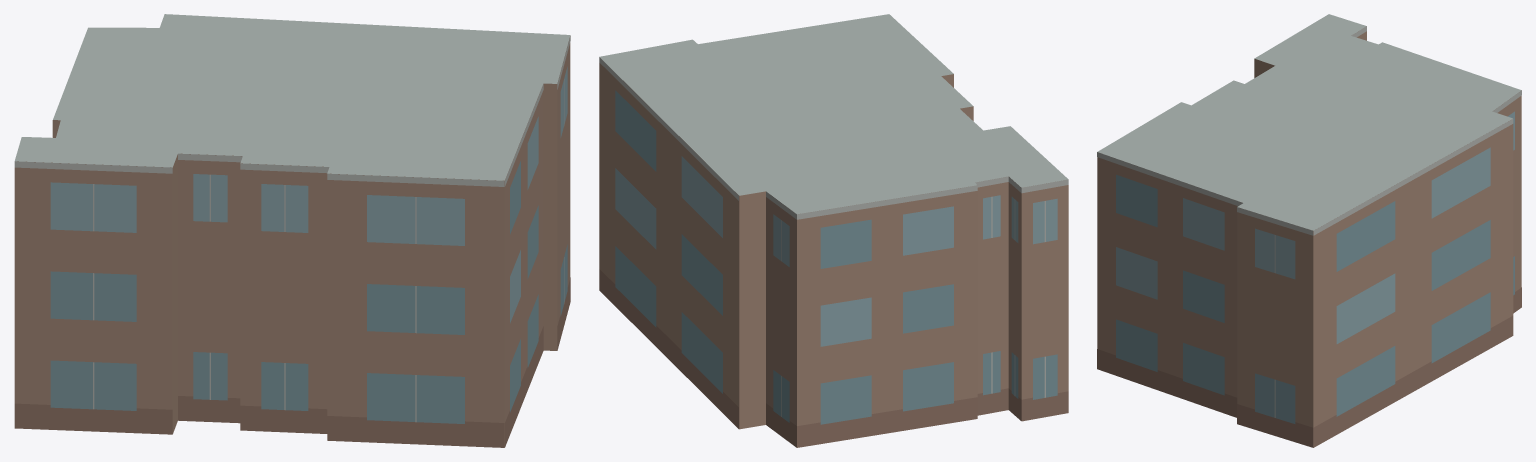
Rendered from survey-upis-32929651.glb.
The picture shows the model from 3 angles, left to right: view 1: azimuth 30°, elevation 25°; view 2: azimuth 150°, elevation 25°; view 3: azimuth 270°, elevation 25°; orthographic projection. The views are drawn at different scales.
Visible parts, largest first — view 1: survey-upis-32929651.tmp; view 2: survey-upis-32929651.tmp; view 3: survey-upis-32929651.tmp.
Part boxes in pixels (bbox=[...]): survey-upis-32929651.tmp: bbox=[14, 14, 570, 447]; survey-upis-32929651.tmp: bbox=[599, 14, 1068, 447]; survey-upis-32929651.tmp: bbox=[1097, 14, 1521, 447].
Size of the model in its own units: 22.27 by 10.4 by 18.44.
